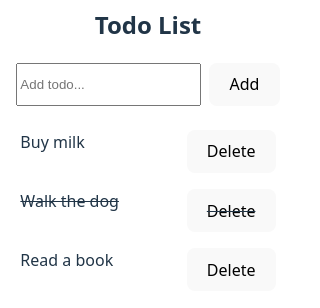
TodoList component › deletes a todo
Click the button "Delete" next to "Read a book": (231, 270) [187,248,276,291]
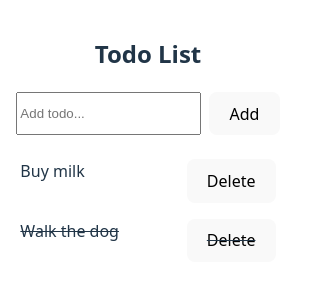
Result: the text "Read a book" is gone
